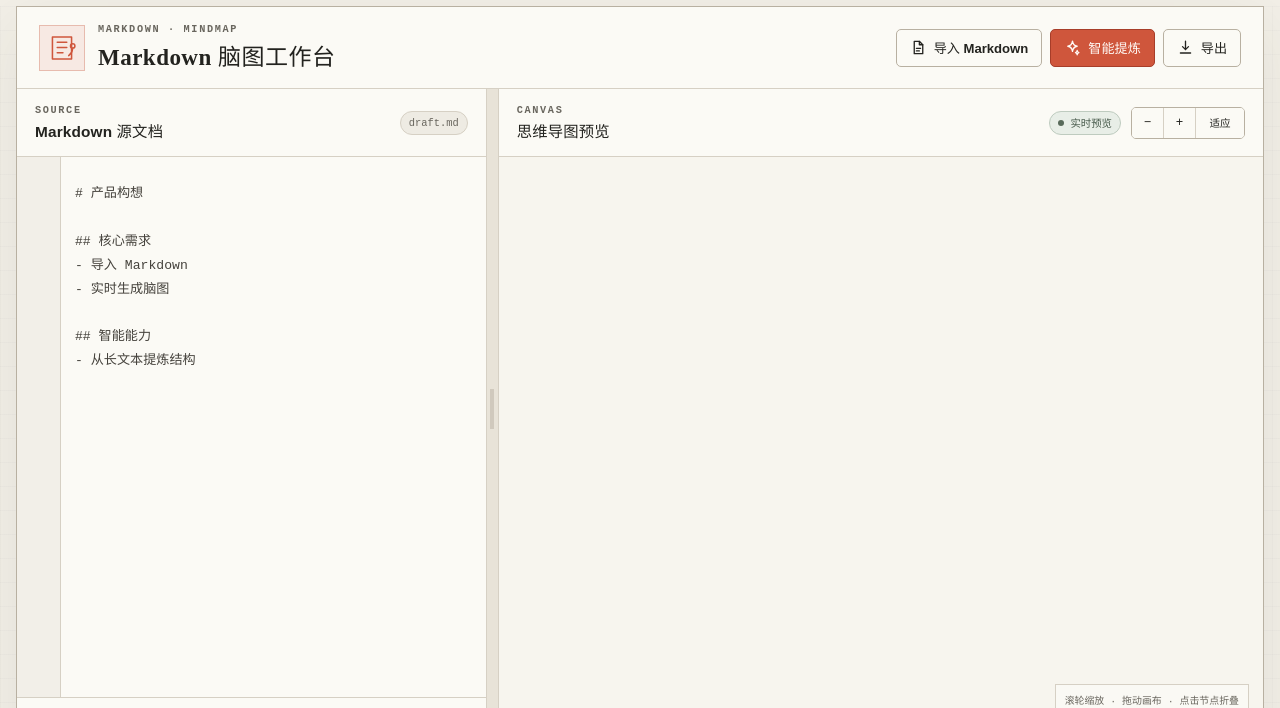
Test case: 应用工作台 › 编辑后自动保存当前 Markdown 和文件名
The width and height of the screenshot is (1280, 708).
Replace the text in the text box named "Markdown 编辑器" with "# 自动保存": [251, 427] box [17, 157, 486, 697]
(page scrolled)
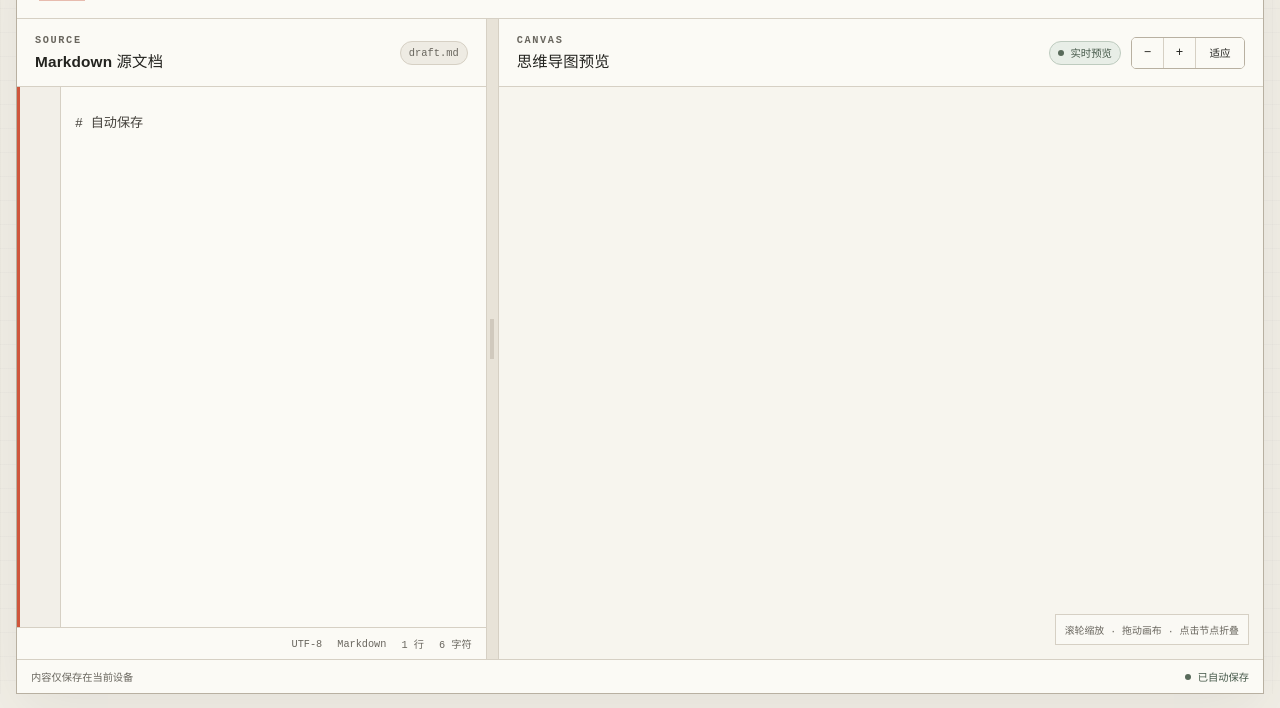
Expected: the message reads "已自动保存", [1198, 672, 1249, 684]
